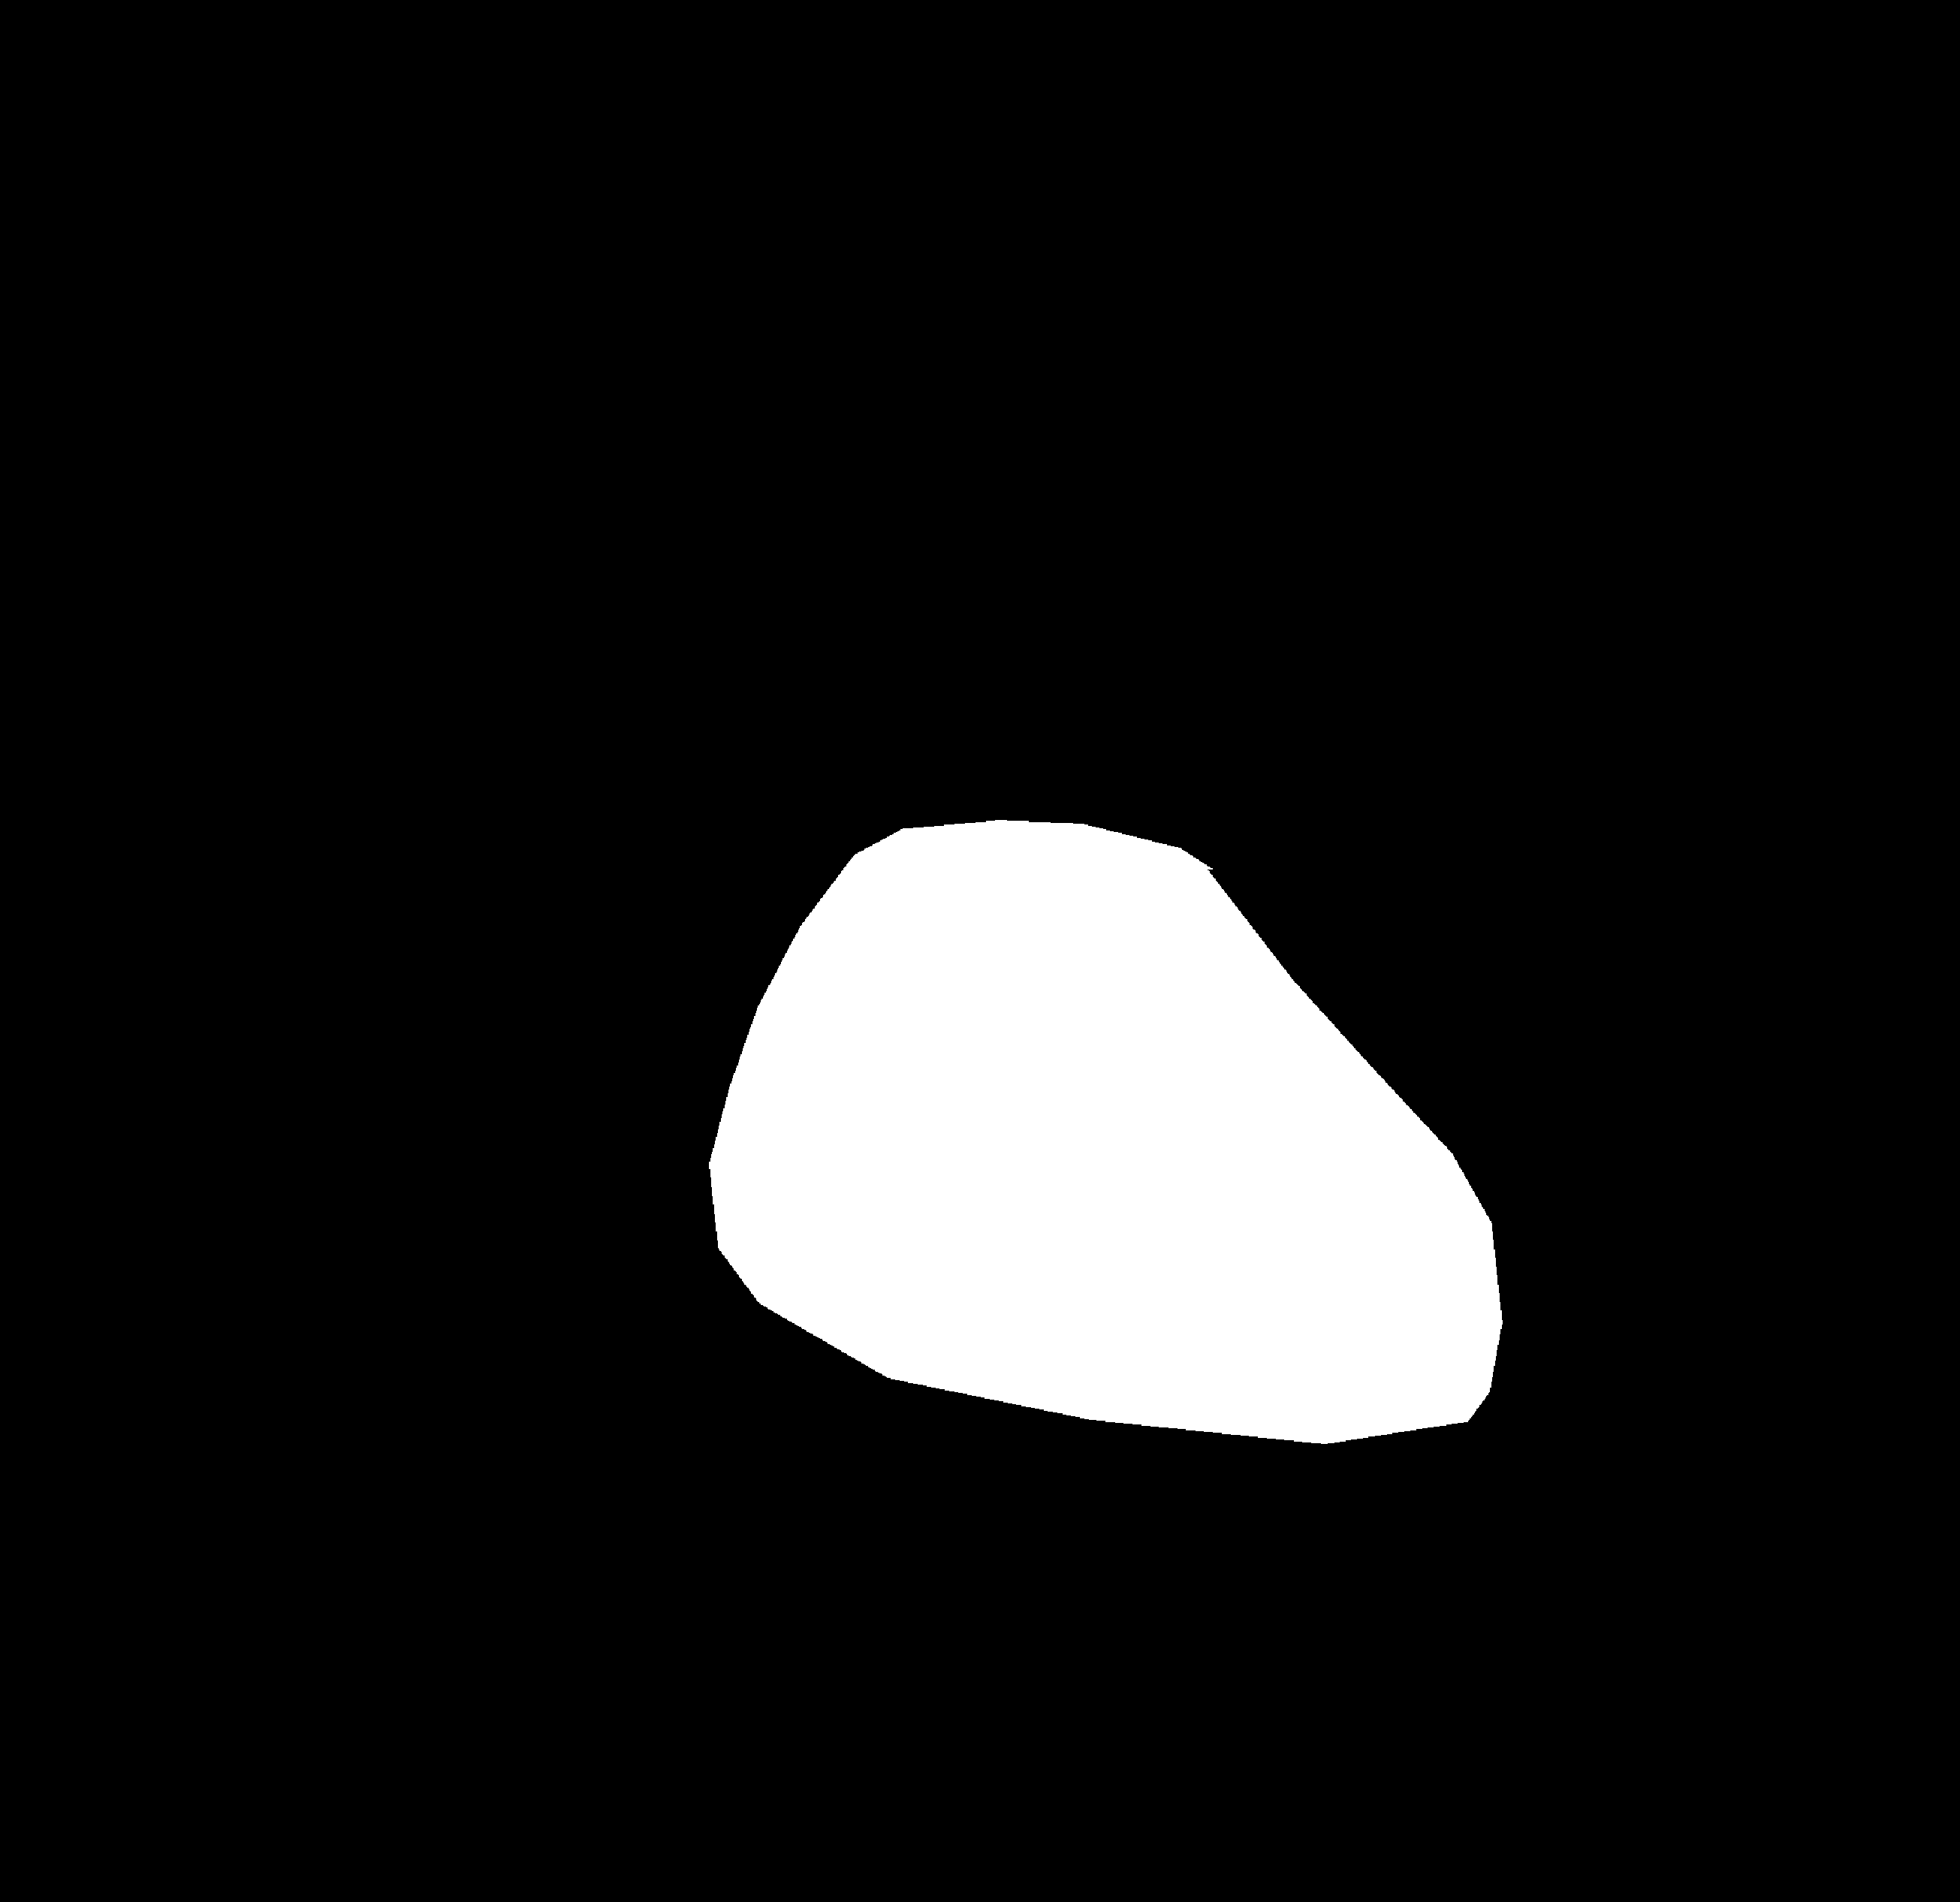heart: (675, 966, 1501, 1473)
left_lung: (138, 313, 922, 1528)
right_lung: (1090, 450, 1626, 1592)
